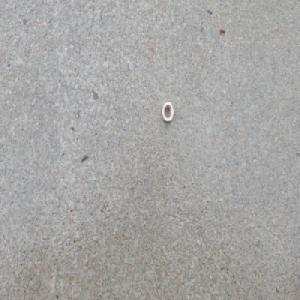Nut: (161, 101, 174, 123)
